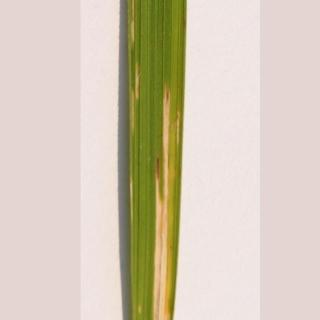Hawar-Daun: (116, 4, 187, 320)
